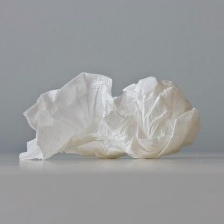tissue: (14, 65, 205, 171)
